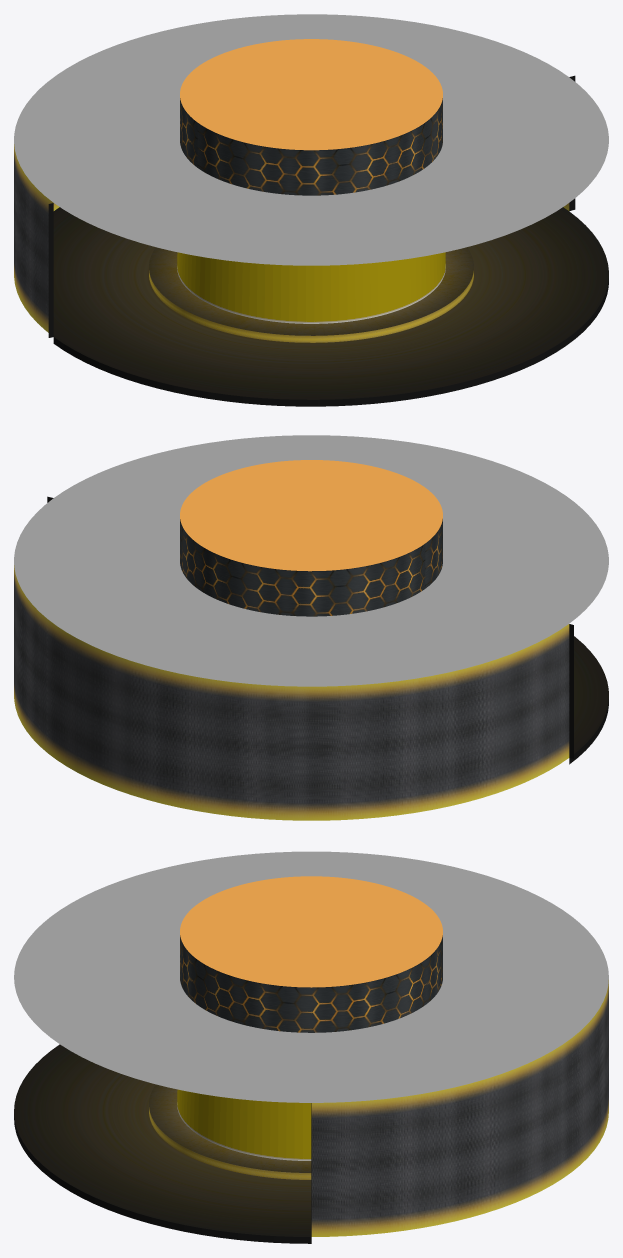
Rendered from stage3_02_old.fbx.
3 views of the same model, one above another, from view 1: azimuth 30°, elevation 25°; view 2: azimuth 150°, elevation 25°; view 3: azimuth 270°, elevation 25° (orthographic).
Visible parts, largest first — view 1: polySurface5, polySurface6, beam1, RING, platform, wallBG; view 2: polySurface5, wallBG, polySurface6, RING; view 3: polySurface5, wallBG, polySurface6, RING, beam1, platform.
Boxes of the visible parts, x1=… form: polySurface5: x1=14, y1=14, x2=608, y2=406; polySurface6: x1=180, y1=39, x2=442, y2=150; beam1: x1=177, y1=252, x2=445, y2=323; RING: x1=180, y1=98, x2=442, y2=195; platform: x1=149, y1=247, x2=473, y2=342; wallBG: x1=14, y1=144, x2=569, y2=332; polySurface5: x1=14, y1=435, x2=608, y2=764; wallBG: x1=14, y1=565, x2=569, y2=820; polySurface6: x1=180, y1=460, x2=442, y2=571; RING: x1=180, y1=519, x2=442, y2=616; polySurface5: x1=14, y1=851, x2=608, y2=1243; wallBG: x1=311, y1=980, x2=608, y2=1236; polySurface6: x1=180, y1=876, x2=442, y2=987; RING: x1=180, y1=935, x2=442, y2=1032; beam1: x1=177, y1=1089, x2=311, y2=1160; platform: x1=149, y1=1084, x2=311, y2=1179.
Bounding box in the file's own units: 29.8 × 10.07 × 29.17.
8 materials, 5 textured.
